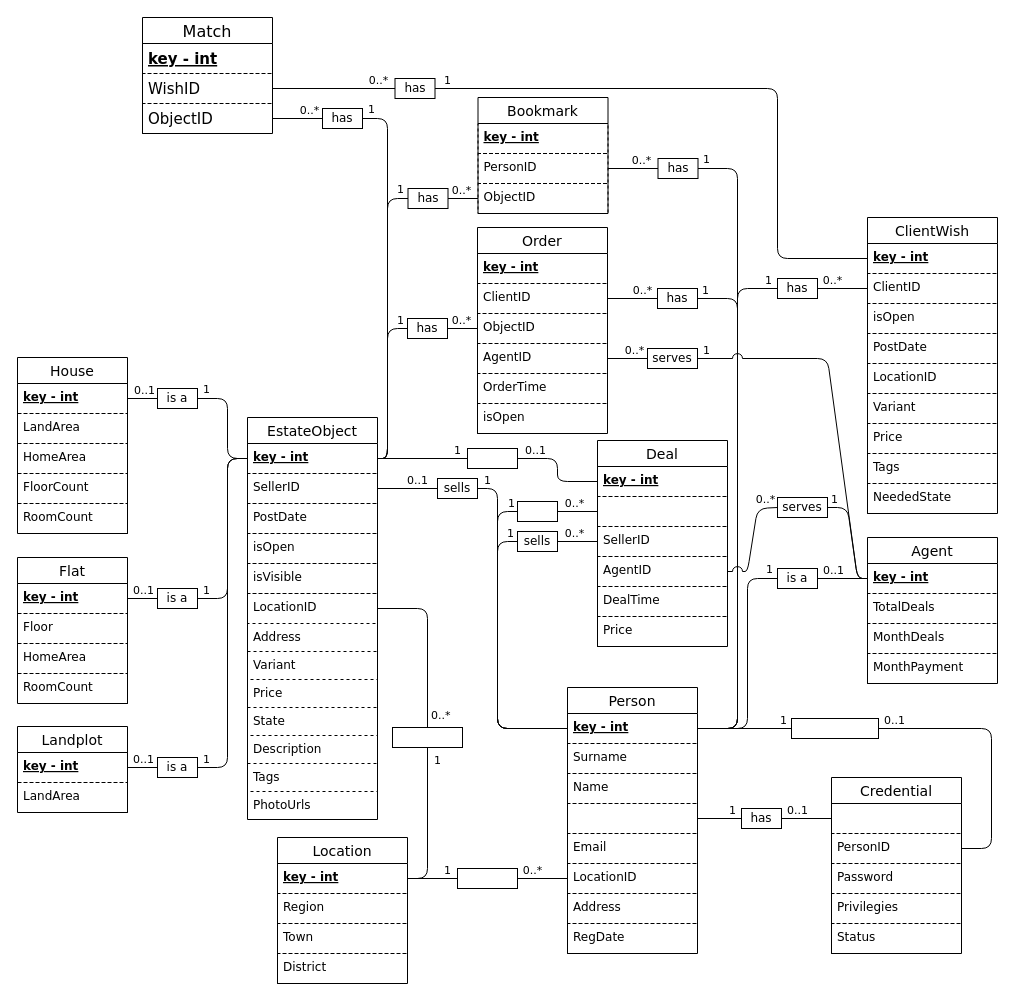
Image size: 1015x1004. Some labels were removed from this diagram. Here are the shapes that lost their labels. From the top down, the centre of each, then its label:
(x=492, y=458): sold by
(x=537, y=511): buys
(x=662, y=511): BuyerID
(x=427, y=737): placed in
(x=834, y=728): attached to
(x=632, y=818): Phone
(x=896, y=818): key - string
(x=487, y=878): lives in
